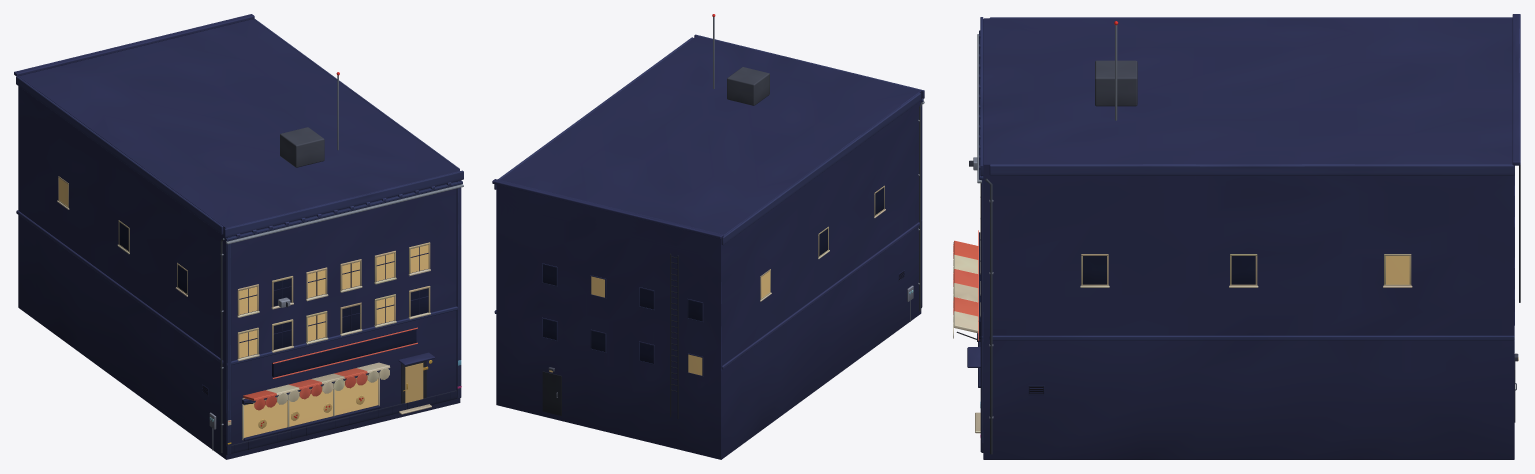
The model's file is SM_City_Bld_Pizza.fbx.
3 views of the same model, side by side, from view 1: azimuth 30°, elevation 25°; view 2: azimuth 150°, elevation 25°; view 3: azimuth 270°, elevation 25° (orthographic). The views are drawn at different scales.
Visible parts, largest first — view 1: SM_City_Bld_Pizza; view 2: SM_City_Bld_Pizza; view 3: SM_City_Bld_Pizza.
Boxes of the visible parts, box(x1,y1,x2,y2) form: SM_City_Bld_Pizza: box(14, 14, 463, 459); SM_City_Bld_Pizza: box(492, 14, 924, 459); SM_City_Bld_Pizza: box(953, 14, 1520, 459).
Bounding box in the file's own units: 1327 × 1642 × 2137.
